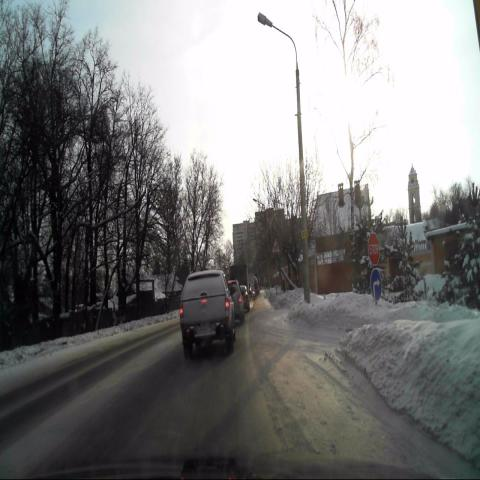2_5: (368, 232, 380, 264)
